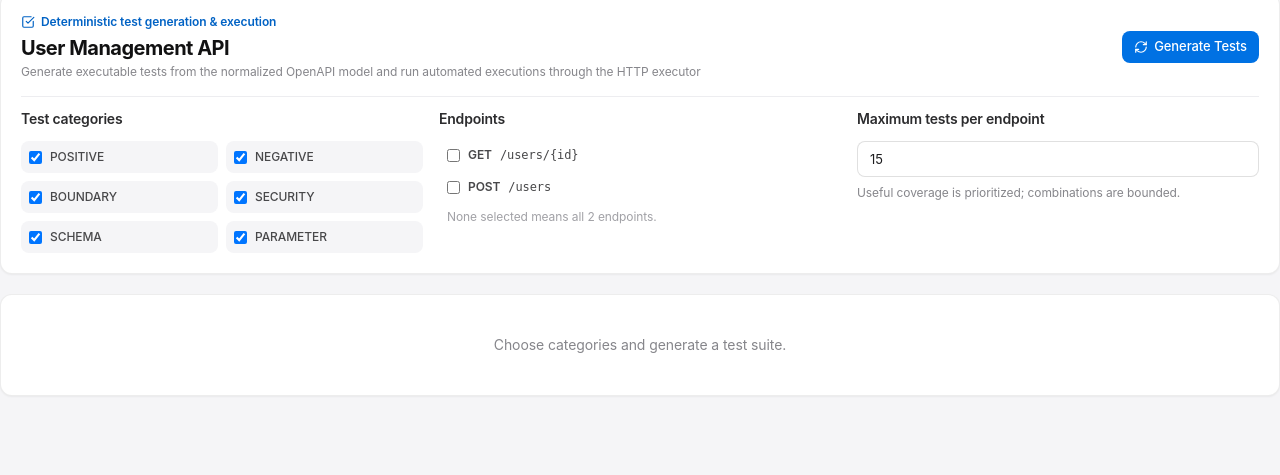
it: TestGeneratorPage Component Tests › displays useful error when test generation fails and resets loading state
This screenshot has width=1280, height=475.
Click the button "Generate Tests" at (1191, 47), box [1122, 31, 1259, 63]
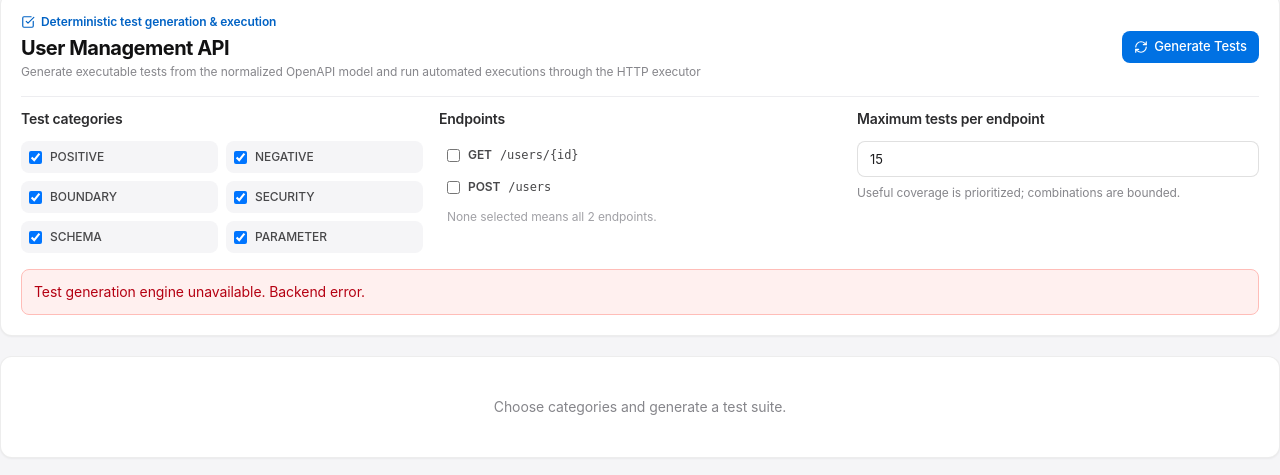
Expected: the text "Test generation engine unavailable. Backend error." is shown, [21, 269, 1259, 315]
